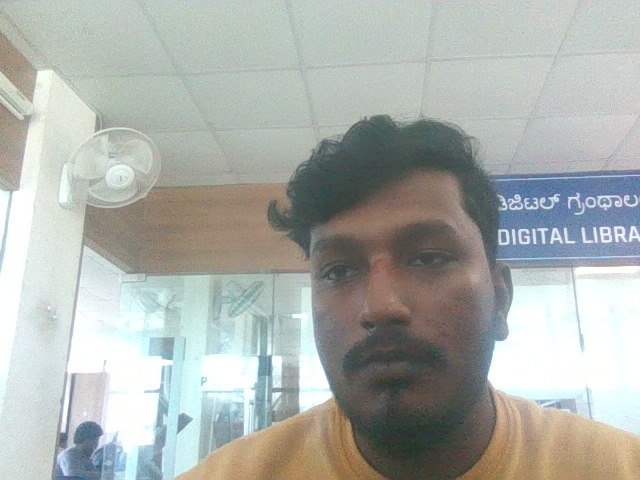real: (272, 91, 530, 456)
